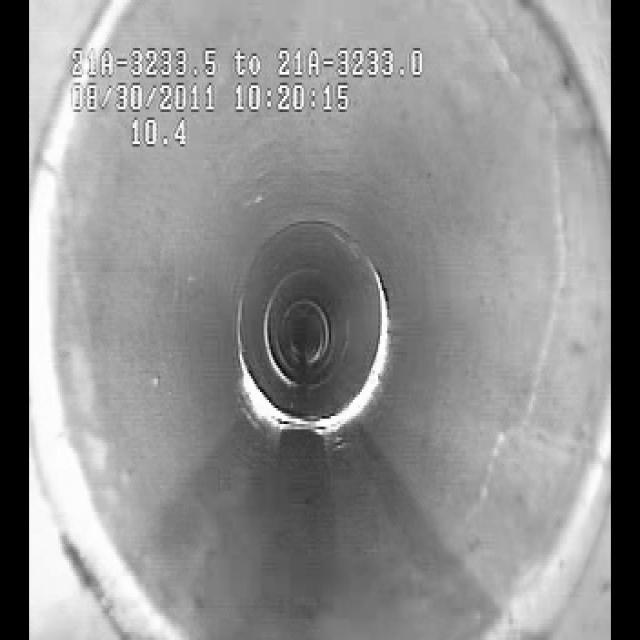Crack: (493, 88, 598, 506)
